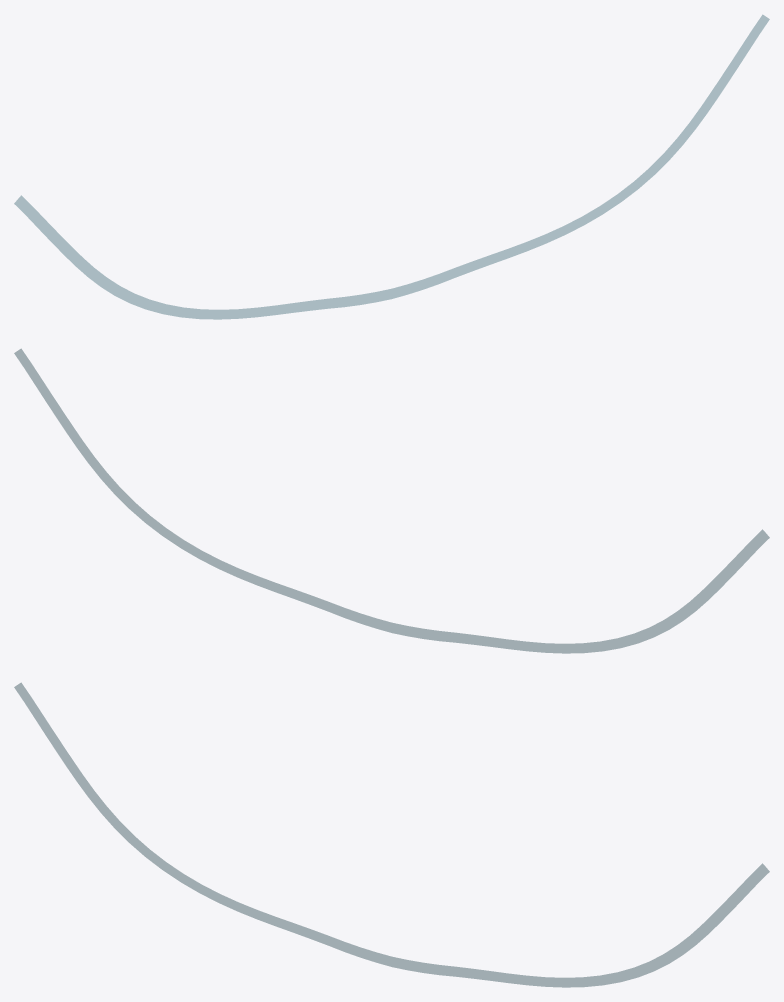
The model's file is CablePlane.fbx.
3 renders of one model, top to bottom at view 1: azimuth 30°, elevation 25°; view 2: azimuth 150°, elevation 25°; view 3: azimuth 330°, elevation 25°, orthographic.
Visible parts, largest first — view 1: Cable; view 2: Cable; view 3: Cable.
Boxes of the visible parts, box(x1,y1,x2,y2) form: Cable: box(14, 15, 769, 319); Cable: box(14, 349, 769, 653); Cable: box(14, 683, 769, 987).
Size of the model in its own units: 1150 by 282 by 1.53e-05.
